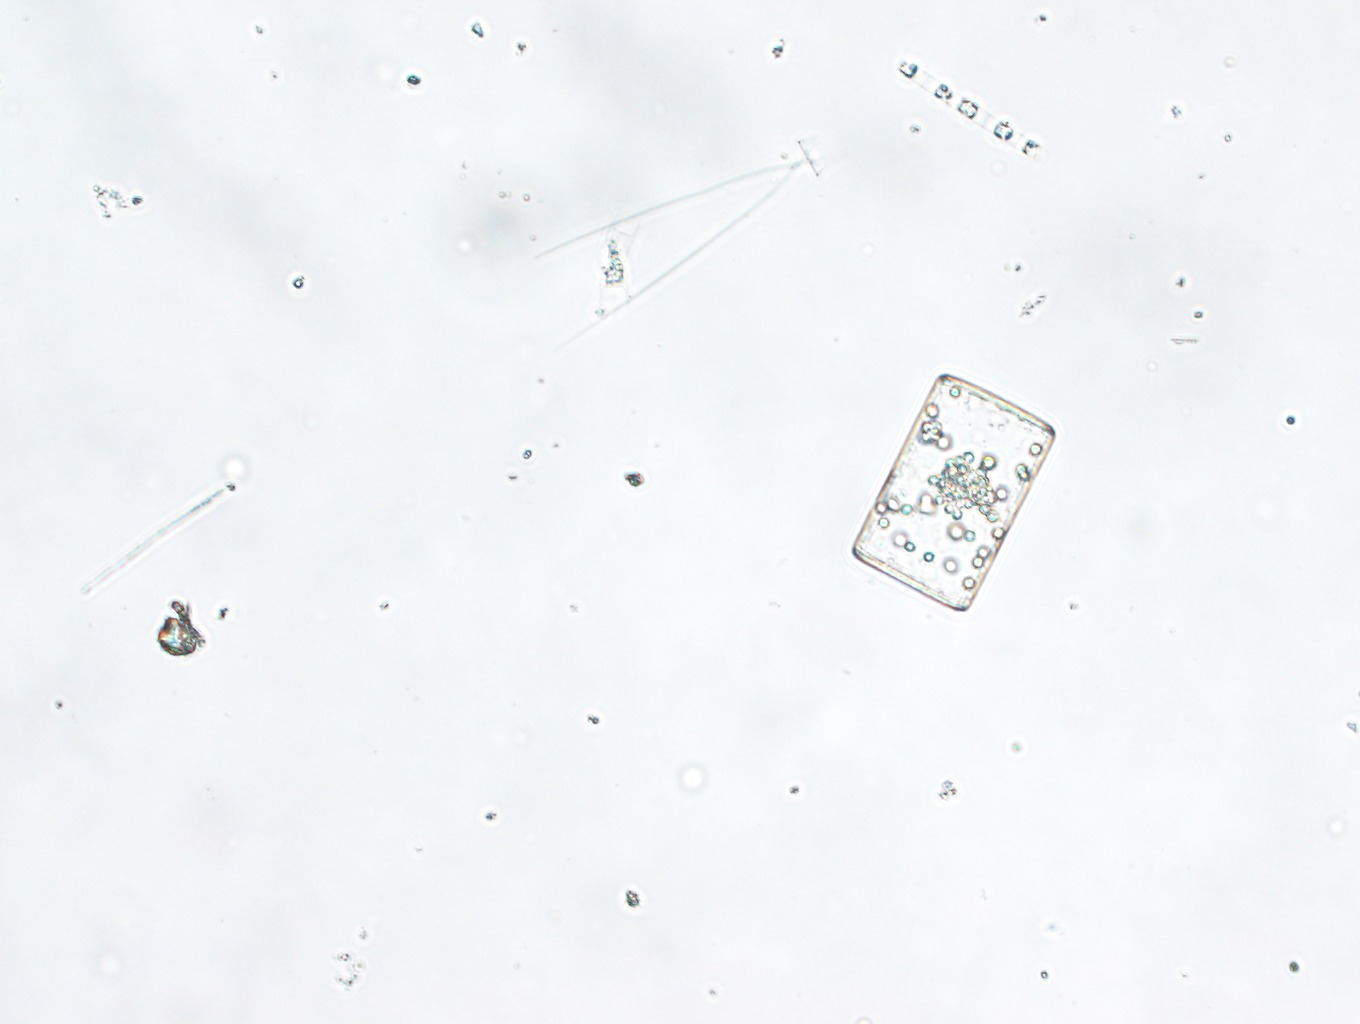chaetoceros: (530, 140, 829, 344)
guinardia flaccida: (851, 373, 1054, 611)
skeletonema: (893, 57, 1046, 165)
